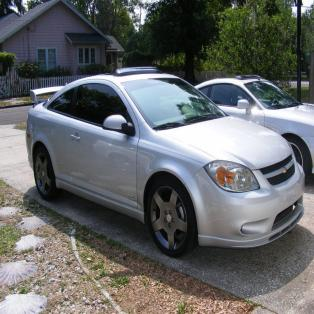Auto: (25, 71, 304, 261)
